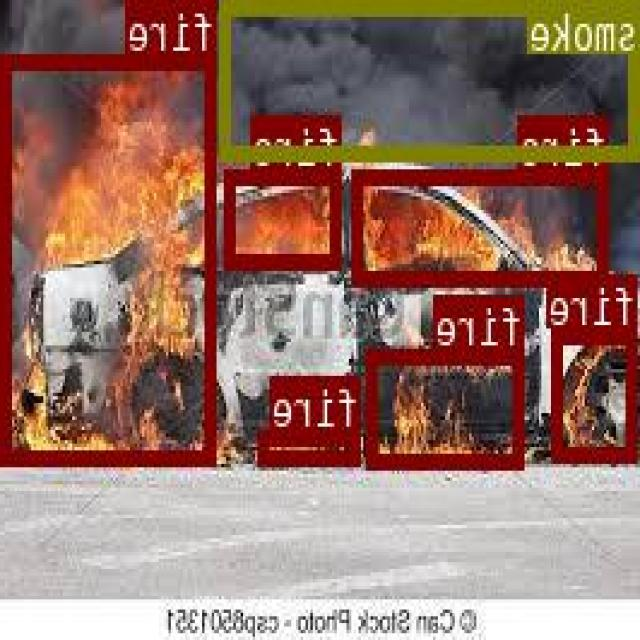fire: (5, 51, 218, 461), (356, 166, 610, 283), (369, 346, 525, 466), (227, 166, 342, 265), (556, 327, 639, 459), (260, 429, 363, 464)
smoke: (221, 0, 640, 156)
